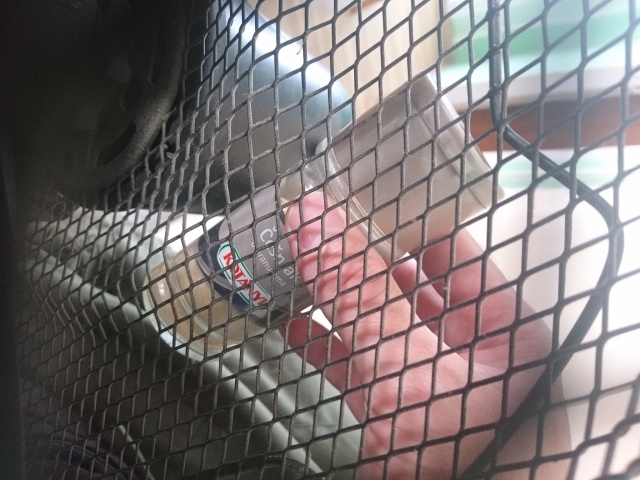Kotanyi Garlic Granules 70g: (137, 67, 508, 366)
